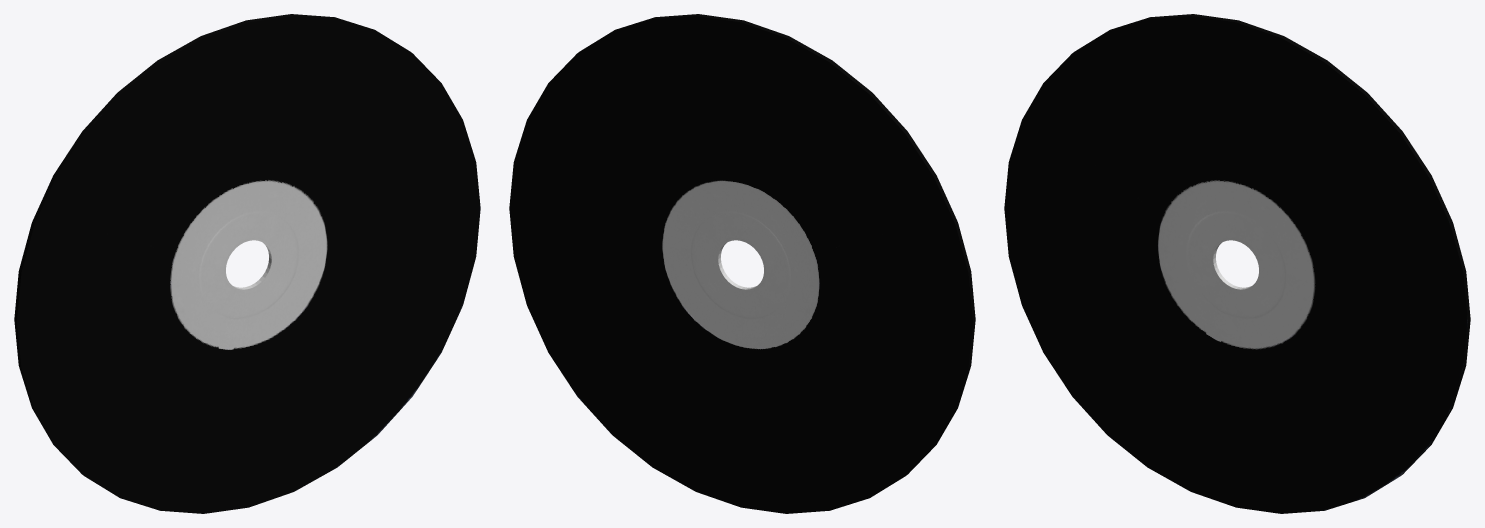
Rendered from Vinyl.fbx.
The picture shows the model from 3 angles, left to right: view 1: azimuth 30°, elevation 25°; view 2: azimuth 150°, elevation 25°; view 3: azimuth 330°, elevation 25°; orthographic projection.
Visible parts, largest first — view 1: Vinyl; view 2: Vinyl; view 3: Vinyl.
Part boxes in pixels (left/top/right/bottom): Vinyl: left=14, top=14, right=480, bottom=513; Vinyl: left=509, top=14, right=975, bottom=513; Vinyl: left=1004, top=14, right=1470, bottom=513.
Size of the model in its own units: 20 by 20 by 0.1988.
